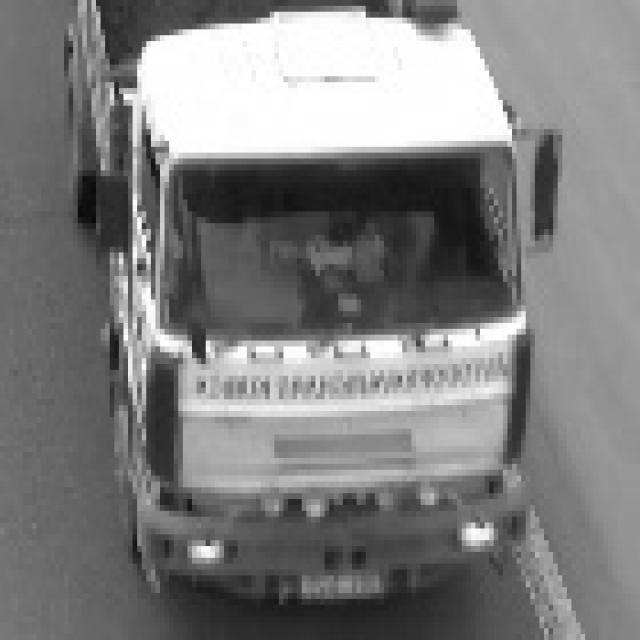truck: (72, 1, 555, 606)
